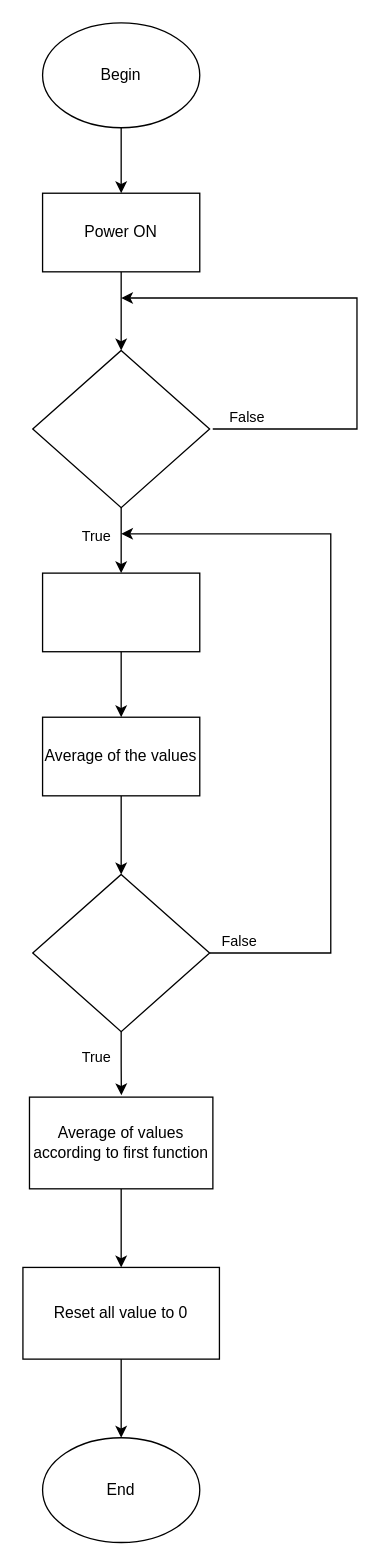
The diagram is 390 pixels wide and 1565 high, and some of its shapes have lost their labels. Here are the shapes that lost their labels. From the top down, the centre of each, then its label:
(x=120, y=428): Sensor1 ON?
(x=120, y=612): Convert Analog --> Actual Volume
(x=120, y=952): Sensor2 ON?
